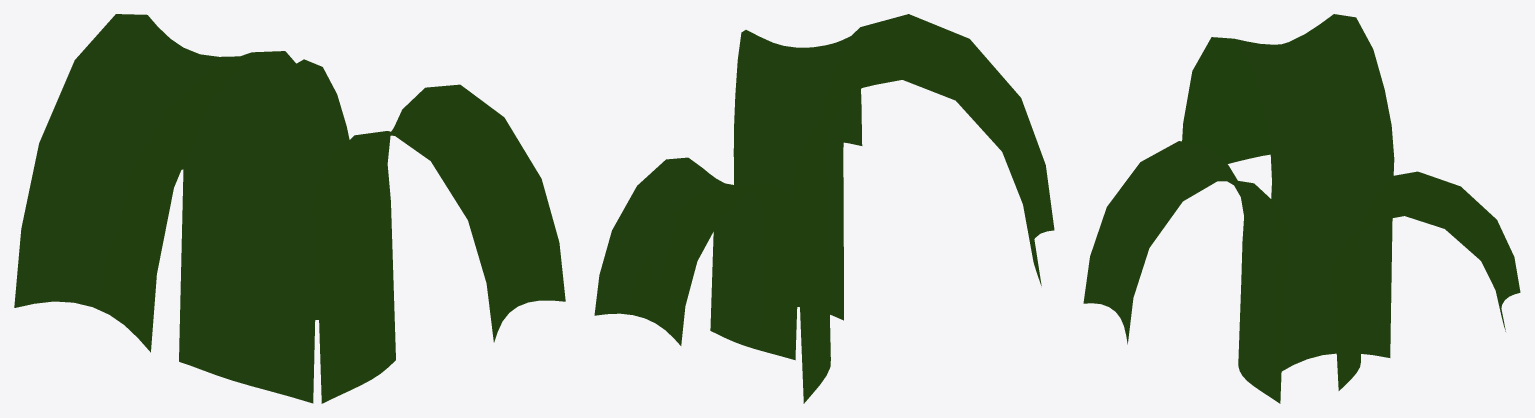
File: S_Hosta-Bush_01.fbx
3 views of the same model, side by side, from view 1: azimuth 30°, elevation 25°; view 2: azimuth 150°, elevation 25°; view 3: azimuth 270°, elevation 25° (orthographic). The views are drawn at different scales.
Visible parts, largest first — view 1: S_Hosta-Bush_01; view 2: S_Hosta-Bush_01; view 3: S_Hosta-Bush_01.
Part boxes in pixels (x1,y1,x2,y2): S_Hosta-Bush_01: (14,14,565,403); S_Hosta-Bush_01: (594,14,1054,403); S_Hosta-Bush_01: (1083,14,1520,403).
Bounding box in the file's own units: 36.51 × 30.41 × 38.87.
